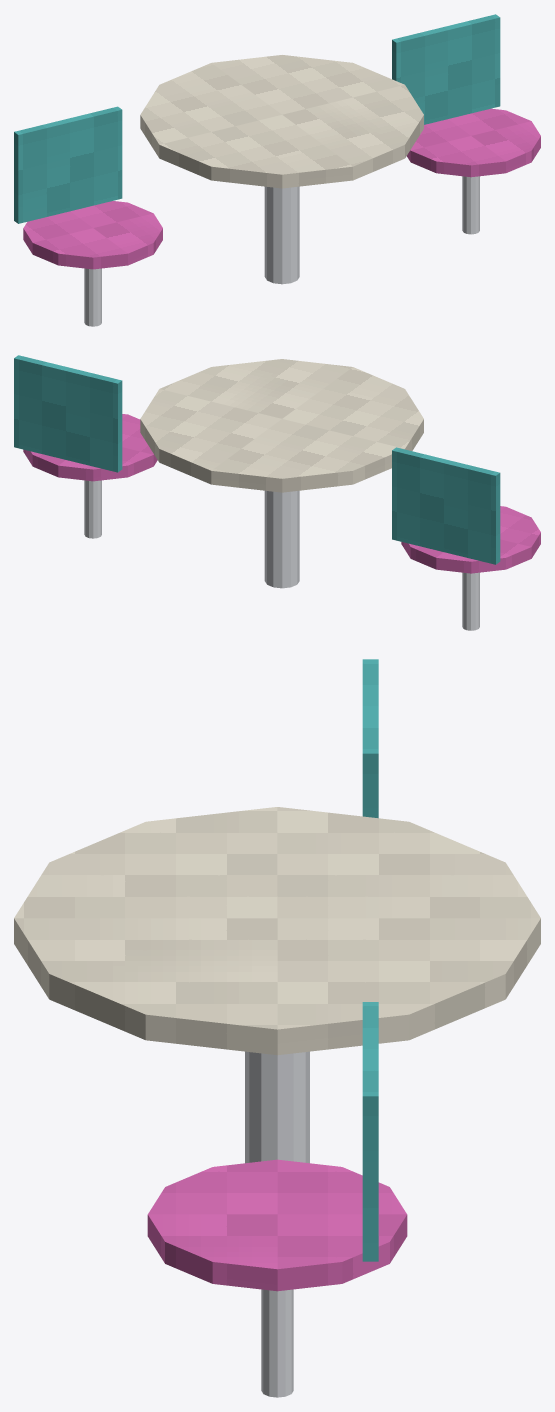
The model's file is three-d-retro-arcade-and-mall-1989-retro-arcade-and-mall-1989-food-court-seating-f4bc533d.glb.
3 renders of one model, top to bottom at view 1: azimuth 30°, elevation 25°; view 2: azimuth 150°, elevation 25°; view 3: azimuth 270°, elevation 25°, orthographic. The views are drawn at different scales.
Parts seen in each view (by area): view 1: food-court-seating; view 2: food-court-seating; view 3: food-court-seating.
Part boxes in pixels (<box>): food-court-seating: <box>14,14,540,326</box>; food-court-seating: <box>14,355,540,630</box>; food-court-seating: <box>14,659,540,1397</box>.
Bounding box in the file's own units: 2.64 × 0.9298 × 1.3.
Materials: 4 (3 with a texture image).
